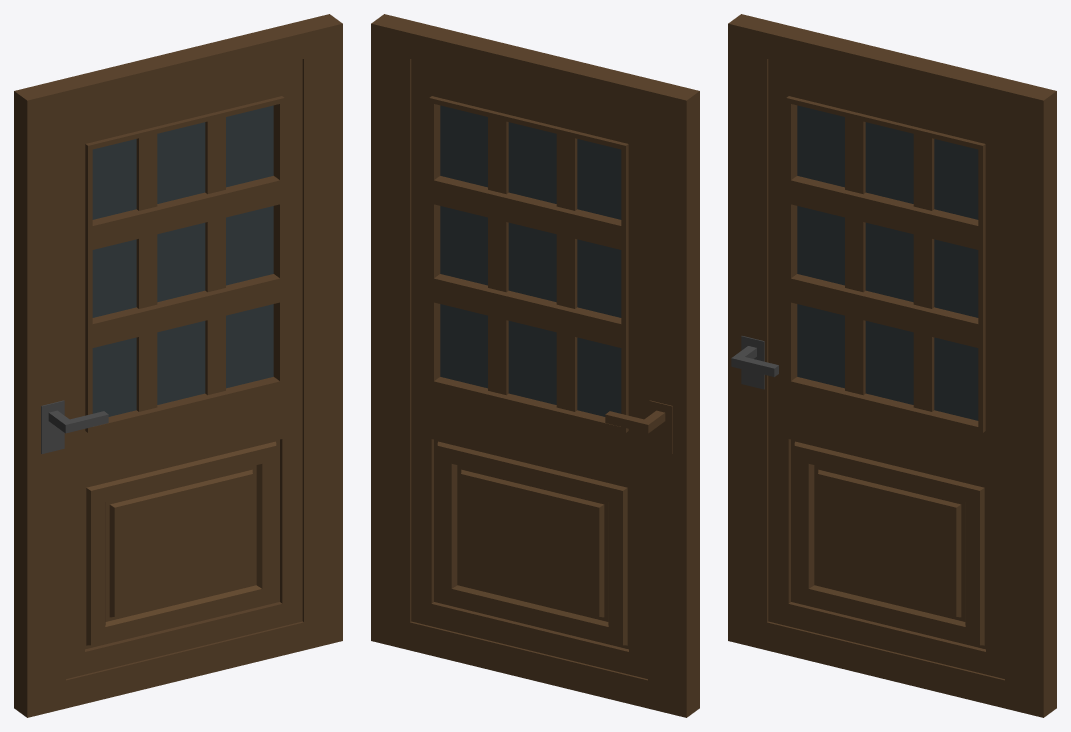
Rendered from Door1.fbx.
3 views of the same model, side by side, from view 1: azimuth 30°, elevation 25°; view 2: azimuth 150°, elevation 25°; view 3: azimuth 330°, elevation 25° (orthographic).
Parts seen in each view (by area): view 1: Door; view 2: Door; view 3: Door.
Boxes of the visible parts, bbox=[...] form: Door: bbox=[14, 14, 342, 717]; Door: bbox=[371, 14, 699, 717]; Door: bbox=[728, 14, 1056, 717].
Bounding box in the file's own units: 138 × 258 × 36.54.
